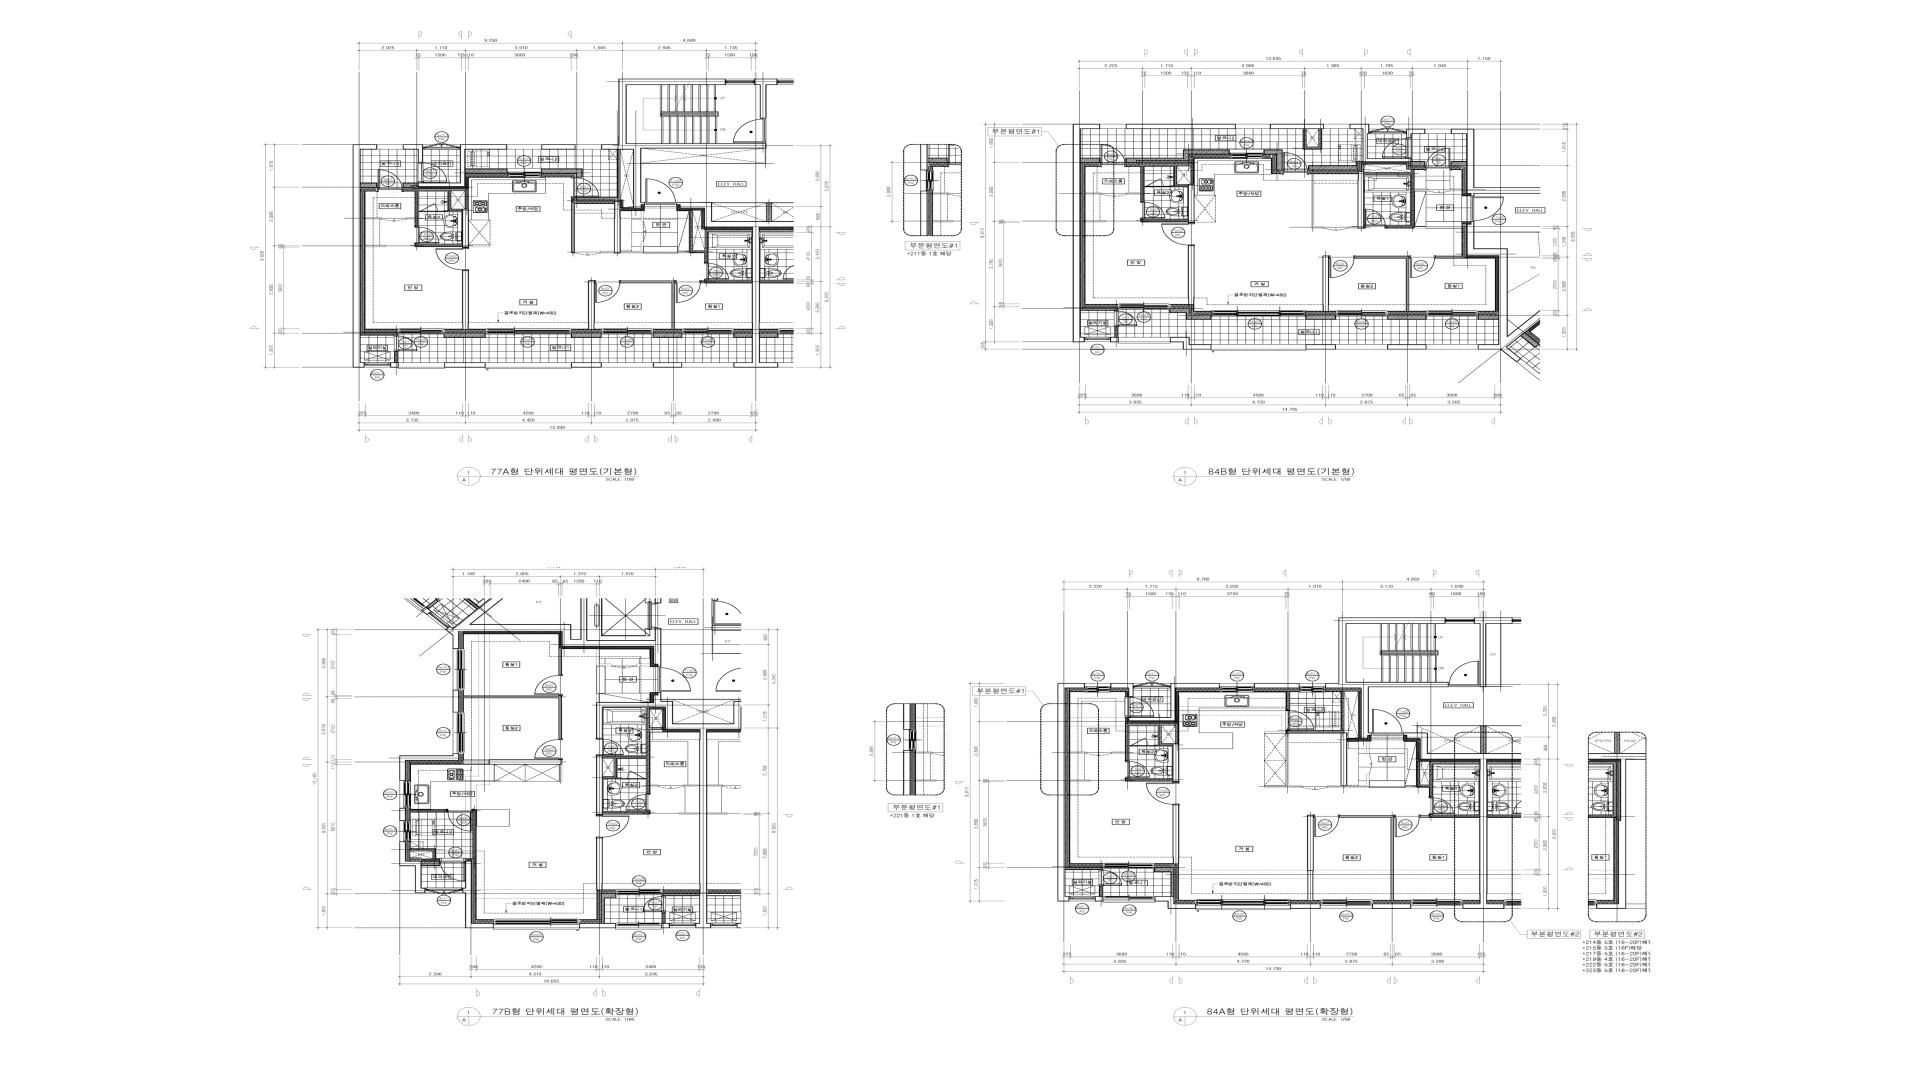door: (1449, 661, 1481, 687), (645, 178, 676, 204), (658, 667, 691, 692), (1470, 196, 1503, 222), (733, 119, 766, 144), (1146, 781, 1180, 804), (435, 247, 469, 270), (1371, 709, 1403, 735), (1162, 222, 1195, 245), (596, 815, 629, 839), (1379, 137, 1412, 158), (1100, 144, 1126, 167), (1125, 696, 1154, 717), (534, 738, 563, 760), (439, 858, 465, 881), (1313, 815, 1340, 837), (1394, 815, 1420, 837), (1410, 256, 1436, 278), (675, 280, 702, 302), (595, 280, 621, 302), (377, 169, 404, 191), (571, 177, 599, 198), (1286, 711, 1315, 731), (534, 675, 563, 695), (418, 162, 447, 182), (447, 808, 472, 831), (1329, 256, 1354, 278), (1425, 148, 1451, 170), (1283, 152, 1308, 174), (596, 738, 624, 756), (414, 225, 439, 244), (1141, 202, 1166, 219), (1429, 796, 1455, 814), (1125, 761, 1150, 778), (625, 794, 650, 811), (704, 262, 729, 280), (1365, 208, 1386, 228), (642, 895, 666, 913), (1114, 310, 1138, 327), (1098, 870, 1122, 886), (394, 335, 417, 351), (1369, 127, 1407, 135), (426, 887, 463, 894), (423, 142, 460, 149), (1146, 178, 1163, 187), (1131, 737, 1149, 746), (628, 770, 645, 779), (421, 203, 438, 212), (1101, 193, 1127, 196), (381, 218, 407, 222), (575, 252, 601, 256), (658, 785, 683, 789), (1303, 786, 1328, 790), (1087, 752, 1112, 756), (1324, 227, 1349, 231), (612, 666, 637, 669), (1428, 190, 1451, 193), (644, 222, 646, 241)
wall: (596, 692, 741, 928), (601, 78, 766, 208), (676, 202, 778, 368), (446, 597, 662, 667), (1325, 617, 1449, 738), (1403, 732, 1487, 909), (1466, 222, 1540, 363), (1265, 691, 1345, 787), (1058, 683, 1085, 902), (1452, 128, 1540, 196), (1073, 124, 1100, 342), (352, 144, 377, 368), (603, 707, 663, 794), (1340, 815, 1394, 901), (463, 695, 562, 738), (418, 144, 508, 186), (1361, 164, 1415, 228), (1129, 683, 1220, 721), (690, 210, 752, 262), (1420, 765, 1480, 818), (1354, 256, 1410, 311), (1474, 617, 1513, 687), (621, 281, 675, 330), (1112, 723, 1179, 761), (1350, 124, 1412, 162), (1328, 732, 1370, 787), (406, 189, 468, 225), (1416, 761, 1480, 796), (576, 149, 620, 200), (1141, 164, 1195, 202), (463, 861, 493, 928), (641, 148, 766, 164), (1141, 187, 1188, 223), (1125, 746, 1174, 781), (400, 753, 459, 781), (1126, 149, 1229, 164), (400, 841, 426, 893), (600, 200, 621, 253), (1486, 624, 1502, 687), (754, 78, 778, 119), (1349, 171, 1365, 228), (1416, 725, 1522, 732), (1312, 174, 1324, 228), (1126, 124, 1236, 129), (1154, 868, 1174, 897), (1307, 815, 1313, 901), (1171, 336, 1212, 349), (463, 760, 562, 765), (1170, 307, 1212, 319), (1155, 897, 1196, 909), (462, 270, 469, 330), (601, 893, 616, 923), (1263, 149, 1283, 170), (1188, 245, 1195, 305), (1303, 129, 1323, 149), (1172, 804, 1179, 864), (596, 756, 603, 815), (402, 144, 423, 162), (1323, 256, 1329, 311), (596, 837, 603, 890), (588, 280, 595, 330), (542, 169, 583, 177), (1110, 683, 1134, 696), (462, 208, 469, 247), (1270, 124, 1324, 129), (410, 848, 436, 858), (596, 649, 612, 666), (621, 241, 644, 253), (1188, 183, 1195, 223), (1308, 165, 1357, 170), (1172, 744, 1179, 782), (1254, 683, 1300, 688), (443, 332, 485, 338), (465, 169, 508, 174), (571, 198, 575, 253), (444, 363, 485, 368), (1387, 344, 1427, 349), (1373, 903, 1411, 909), (702, 280, 752, 284), (579, 923, 616, 928), (472, 810, 476, 858), (603, 811, 650, 815), (542, 144, 575, 149), (1407, 128, 1425, 137), (1305, 344, 1336, 349), (1291, 903, 1321, 909), (571, 332, 601, 338), (653, 332, 683, 338), (1387, 315, 1427, 319), (572, 363, 601, 368), (653, 363, 682, 368), (452, 690, 459, 712), (1081, 307, 1118, 311), (1481, 725, 1486, 753), (662, 893, 699, 897), (414, 244, 463, 247), (1305, 315, 1336, 319), (1478, 314, 1498, 319), (662, 699, 741, 700), (360, 332, 398, 335), (1081, 157, 1100, 162), (1065, 868, 1102, 870), (422, 861, 440, 866), (410, 810, 447, 812), (733, 332, 752, 338), (360, 182, 377, 187), (1451, 161, 1466, 166), (402, 182, 418, 187), (1286, 691, 1290, 711), (400, 808, 406, 820), (1411, 161, 1425, 166), (559, 647, 562, 675), (1436, 256, 1462, 258), (1098, 886, 1104, 897), (679, 812, 699, 815), (1095, 897, 1104, 902), (662, 911, 666, 923), (394, 351, 398, 363), (1110, 336, 1118, 342), (662, 923, 670, 928), (390, 363, 398, 368), (1114, 327, 1118, 336), (1415, 189, 1428, 191), (637, 663, 650, 666), (1451, 189, 1462, 191), (1367, 741, 1370, 753), (1085, 220, 1106, 222), (641, 211, 644, 222), (1071, 779, 1091, 781), (365, 245, 385, 247), (1085, 193, 1101, 194), (683, 785, 699, 786), (1071, 752, 1087, 753), (365, 218, 381, 219), (1127, 193, 1141, 194), (418, 211, 421, 212)
window: (1196, 899, 1291, 910), (1212, 344, 1305, 351), (1212, 310, 1305, 316), (1411, 899, 1462, 909), (1321, 899, 1373, 909), (485, 363, 572, 368), (493, 924, 579, 930), (493, 919, 579, 924), (485, 328, 571, 334), (1118, 336, 1171, 343), (1104, 895, 1155, 902), (1102, 862, 1154, 869), (1427, 310, 1478, 316), (1336, 310, 1387, 316), (1118, 303, 1170, 310), (456, 649, 464, 690), (456, 712, 464, 753), (1220, 683, 1254, 692), (1229, 149, 1263, 158), (508, 169, 542, 178), (616, 889, 662, 895), (1427, 344, 1478, 349), (1336, 344, 1387, 349), (682, 328, 733, 334), (601, 328, 653, 334), (1299, 683, 1325, 692), (1134, 682, 1171, 688), (398, 363, 444, 368), (398, 328, 443, 334), (1085, 683, 1110, 692), (404, 781, 411, 808), (682, 363, 733, 367), (601, 363, 653, 367), (1445, 617, 1474, 624), (616, 926, 662, 930), (1236, 124, 1270, 129), (508, 144, 542, 149), (404, 820, 411, 841), (452, 649, 456, 690), (452, 712, 456, 753), (725, 79, 754, 84), (1324, 124, 1350, 129), (1100, 124, 1126, 129), (575, 144, 601, 149), (1084, 336, 1110, 342), (670, 923, 695, 928), (1069, 895, 1095, 901), (377, 144, 402, 149), (616, 923, 662, 926), (400, 781, 404, 808), (1425, 129, 1452, 133), (364, 363, 390, 367), (400, 820, 404, 841)
